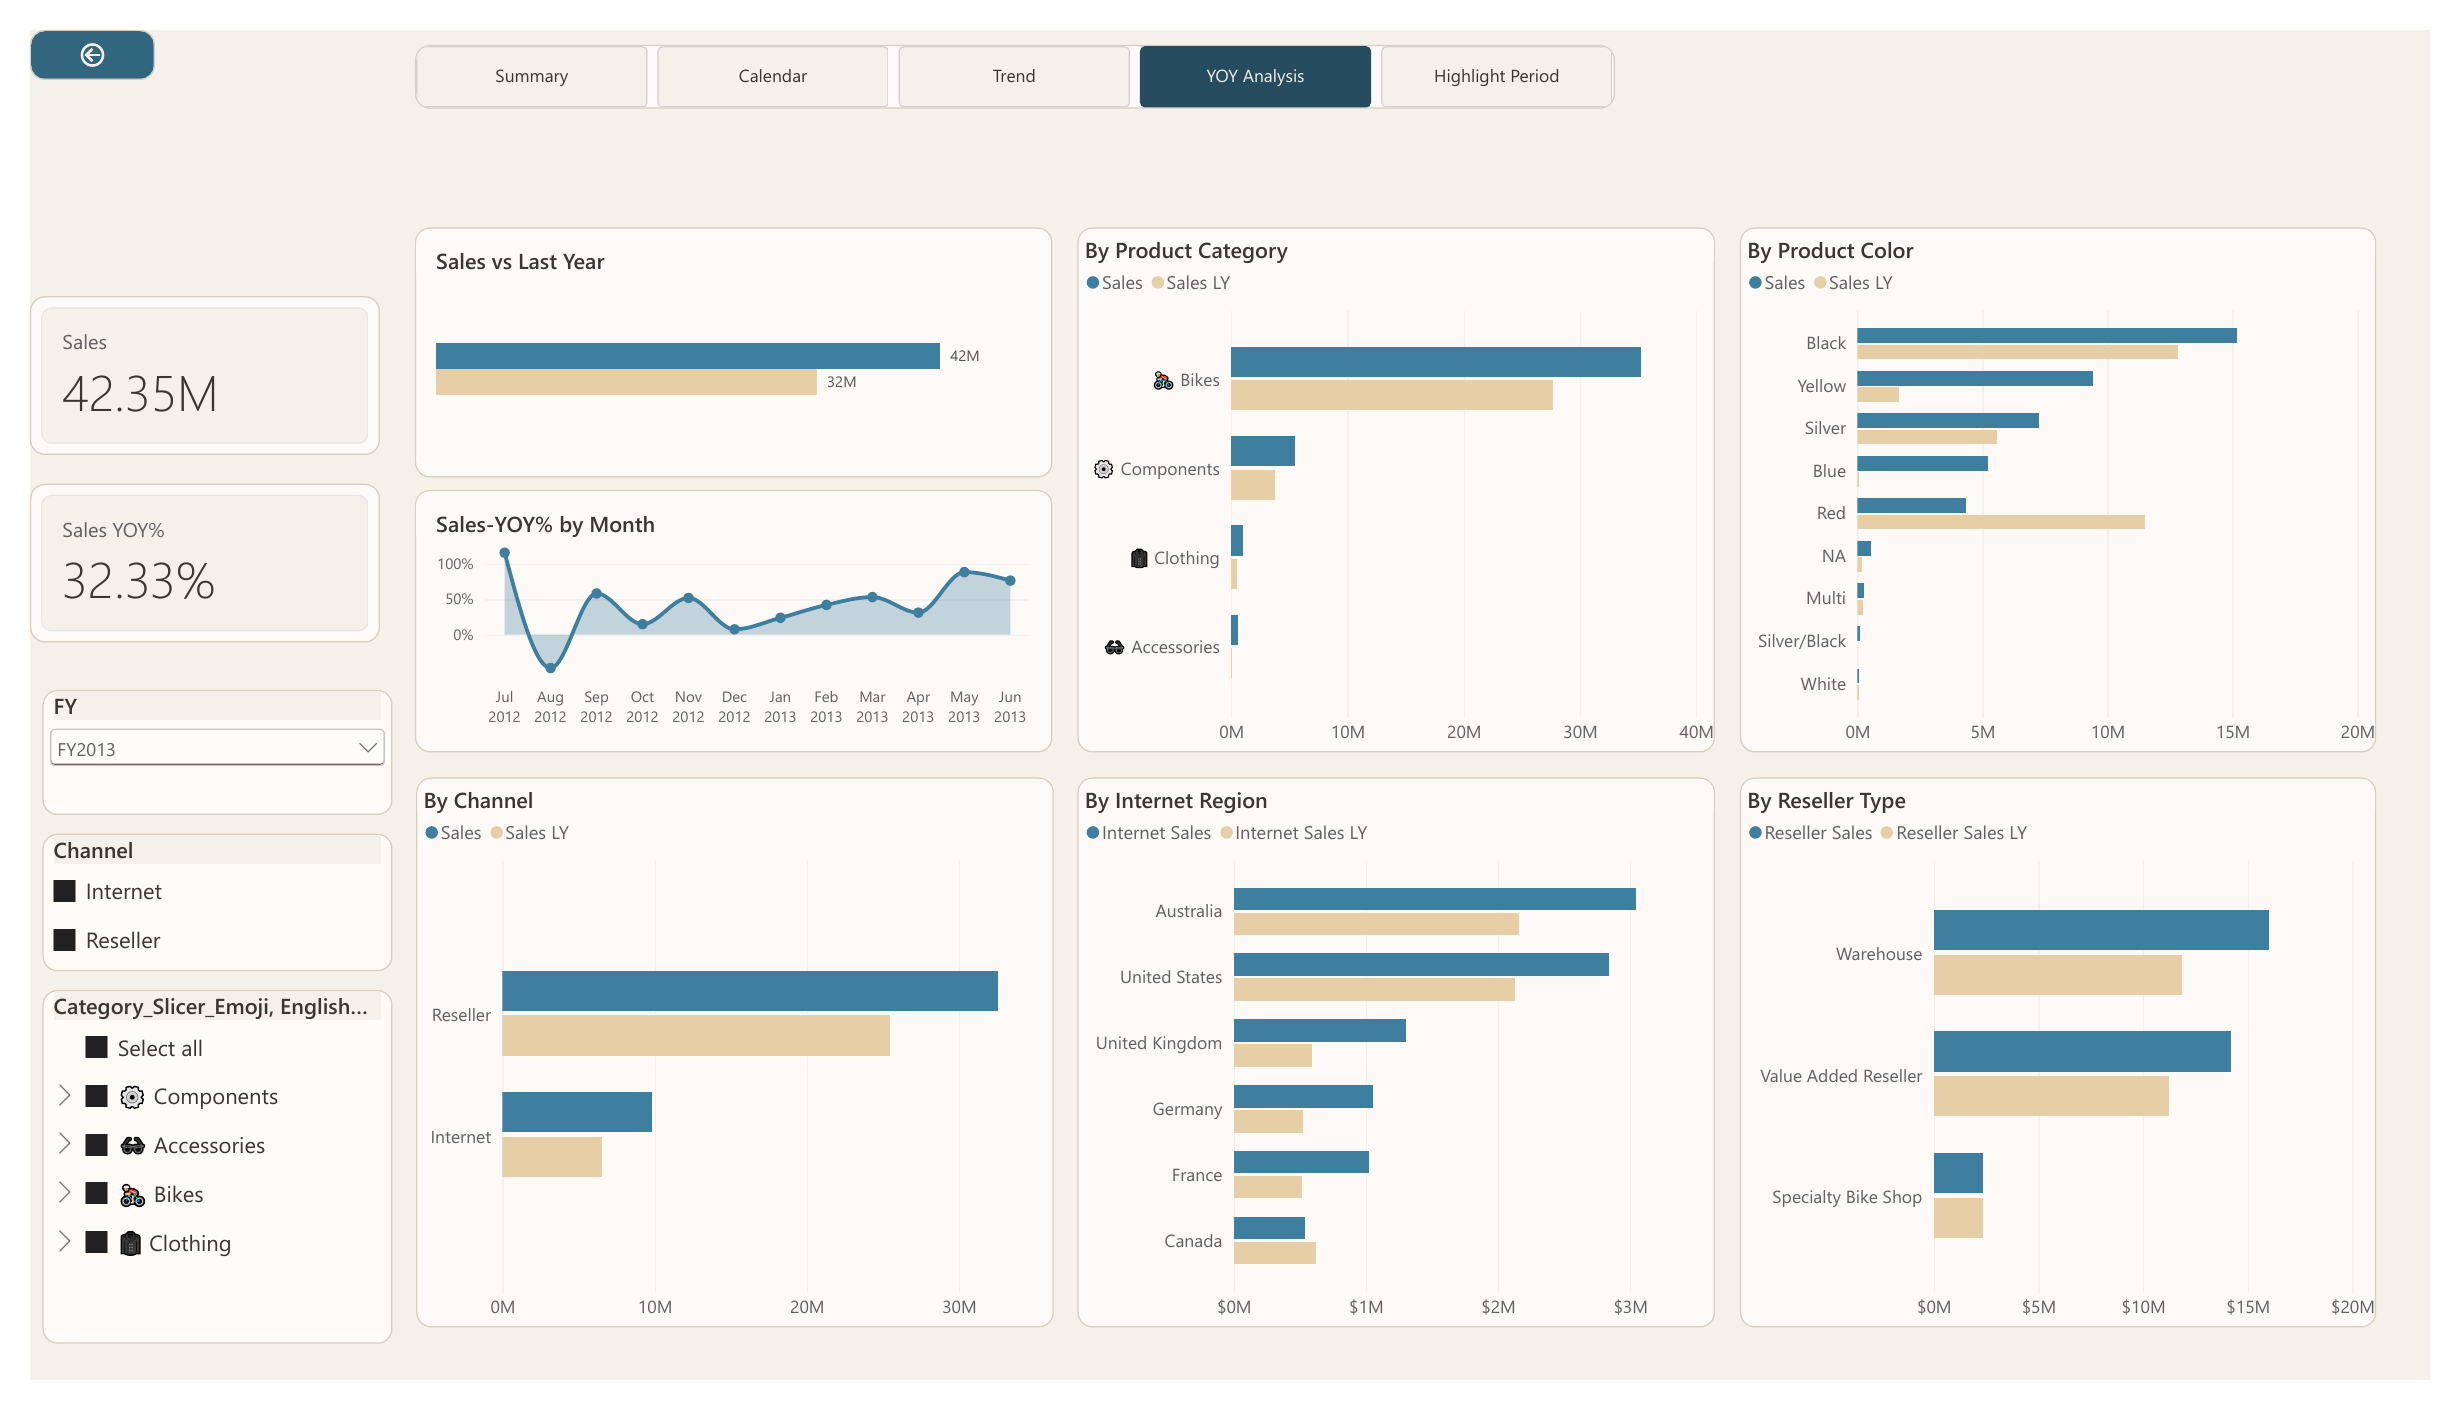

The dashboard page shown, as its layout file describes it:
{"tool":"powerbi","page":{"name":"YOY Analysis","canvas":[1920,1080],"ordinal":3},"visuals":[{"type":"group","id":"g1","title":"SlicerPanel","box":[9.5,527.6,280,523],"z":0},{"type":"cardVisual","title":"Sales","fields":{"Data":["_Measures.Sales"]},"box":[0,213.3,280,127],"z":1000},{"type":"slicer","fields":{"Values":["Date.FY"]},"box":[9.5,527.6,280,100],"z":1000,"group":"g1"},{"type":"cardVisual","title":"Volume","fields":{"Data":["_Measures.Sales YOY%"]},"box":[0,363.3,280,127],"z":2000},{"type":"slicer","fields":{"Values":["Sales.Channel"]},"box":[9.5,642.6,280,110],"z":2000,"group":"g1"},{"type":"areaChart","title":"Sales-YOY% by Month","fields":{"Category":["Date.Month Label"],"Y":["_Measures.Sales YOY%"]},"box":[308,368,510,210],"z":3000},{"type":"slicer","fields":{"Values":["DimProductCategory.Category_Slicer_Emoji","DimProductSubcategory.EnglishProductSubcategoryName"]},"box":[9.5,767.6,280,283],"z":3000,"group":"g1"},{"type":"clusteredBarChart","title":"By Product Category","fields":{"Category":["DimProductCategory.Category_Slicer_Emoji"],"Y":["_Measures.Sales","_Measures.Sales LY"]},"box":[838,158,510,420],"z":4000},{"type":"clusteredBarChart","title":"By Product Color","fields":{"Category":["DimProduct.Color"],"Y":["_Measures.Sales","_Measures.Sales LY"]},"box":[1368,158,509,420],"z":5000},{"type":"clusteredBarChart","title":"By Channel","fields":{"Category":["Sales.Channel"],"Y":["_Measures.Sales","_Measures.Sales LY"]},"box":[308.9,598,510,440],"z":6000},{"type":"clusteredBarChart","title":"Sales vs Last Year","fields":{"Category":["Date.FY"],"Y":["_Measures.Sales","_Measures.Sales LY"]},"box":[308,158,510,200],"z":7000},{"type":"clusteredBarChart","title":"By Reseller Type","fields":{"Category":["DimReseller.BusinessType"],"Y":["_Measures.Reseller Sales","_Measures.Reseller Sales LY"]},"box":[1368,598,509,440],"z":8000},{"type":"clusteredBarChart","title":"By Internet Region","fields":{"Category":["DimGeography.EnglishCountryRegionName"],"Y":["_Measures.Internet Sales","_Measures.Internet Sales LY"]},"box":[838,598,510,440],"z":9000},{"type":"pageNavigator","box":[308,12,960,51],"z":10000},{"type":"actionButton","box":[0,0,100,40],"z":10001}]}

Visuals, with their boxes in screenshot pixels (x1, y1, x2, y2), scaled from the page's 1920x1080 canvas onto the 2460x1410 screenshot:
"SlicerPanel" group: 12,689,371,1372
"Sales" cardVisual: 0,278,359,444
slicer - Date.FY: 12,689,371,819
"Volume" cardVisual: 0,474,359,640
slicer - Sales.Channel: 12,839,371,983
"Sales-YOY% by Month" areaChart: 395,480,1048,755
slicer - DimProductCategory.Category_Slicer_Emoji x DimProductSubcategory.EnglishProductSubcategoryName: 12,1002,371,1372
"By Product Category" clusteredBarChart: 1074,206,1727,755
"By Product Color" clusteredBarChart: 1753,206,2405,755
"By Channel" clusteredBarChart: 396,781,1049,1355
"Sales vs Last Year" clusteredBarChart: 395,206,1048,467
"By Reseller Type" clusteredBarChart: 1753,781,2405,1355
"By Internet Region" clusteredBarChart: 1074,781,1727,1355
pageNavigator: 395,16,1625,82
actionButton: 0,0,128,52
